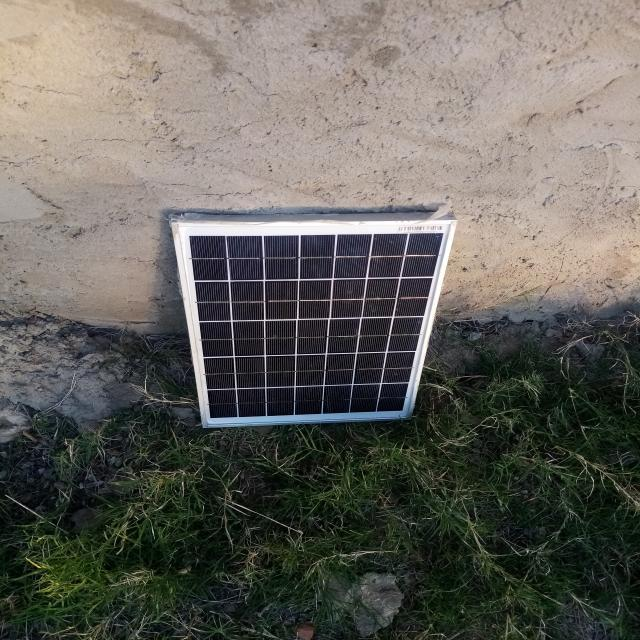Normal Solar Panel: (172, 219, 456, 427)
